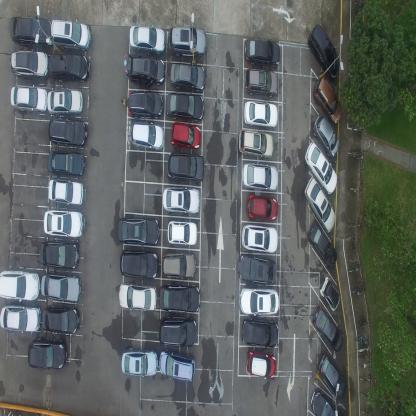car: (307, 23, 340, 81), (304, 140, 338, 196), (304, 177, 336, 234), (312, 304, 344, 354), (307, 219, 337, 271), (9, 14, 52, 48), (124, 52, 166, 86), (313, 75, 342, 124), (317, 352, 347, 399), (50, 18, 92, 51), (27, 337, 68, 370), (158, 315, 198, 348), (167, 150, 205, 184), (238, 252, 277, 285), (9, 50, 50, 81), (41, 272, 82, 303), (118, 216, 160, 246), (48, 53, 90, 83), (0, 270, 40, 301), (159, 283, 200, 313), (129, 23, 166, 56), (169, 26, 207, 58), (158, 349, 196, 381), (118, 249, 158, 279), (48, 118, 88, 148), (39, 240, 79, 270), (313, 113, 339, 159), (43, 209, 84, 238), (0, 304, 41, 333), (239, 286, 280, 315), (242, 317, 279, 349), (162, 184, 200, 215), (118, 282, 156, 312), (121, 346, 158, 376), (10, 85, 48, 114), (239, 128, 273, 160), (242, 223, 278, 253), (242, 163, 279, 192), (42, 306, 80, 334), (165, 93, 204, 120), (130, 122, 165, 152), (170, 62, 206, 91), (47, 88, 83, 117), (244, 37, 280, 66), (127, 90, 164, 118), (47, 178, 84, 206), (47, 150, 85, 177), (244, 67, 278, 97), (162, 250, 196, 279), (244, 101, 279, 128), (171, 120, 201, 150), (247, 193, 278, 222), (166, 219, 198, 247), (310, 388, 343, 415), (247, 350, 276, 379), (319, 275, 340, 312)
